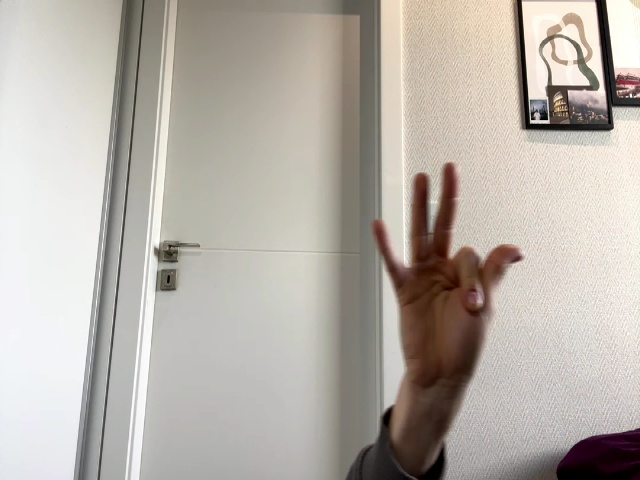F: (374, 163, 523, 383)
